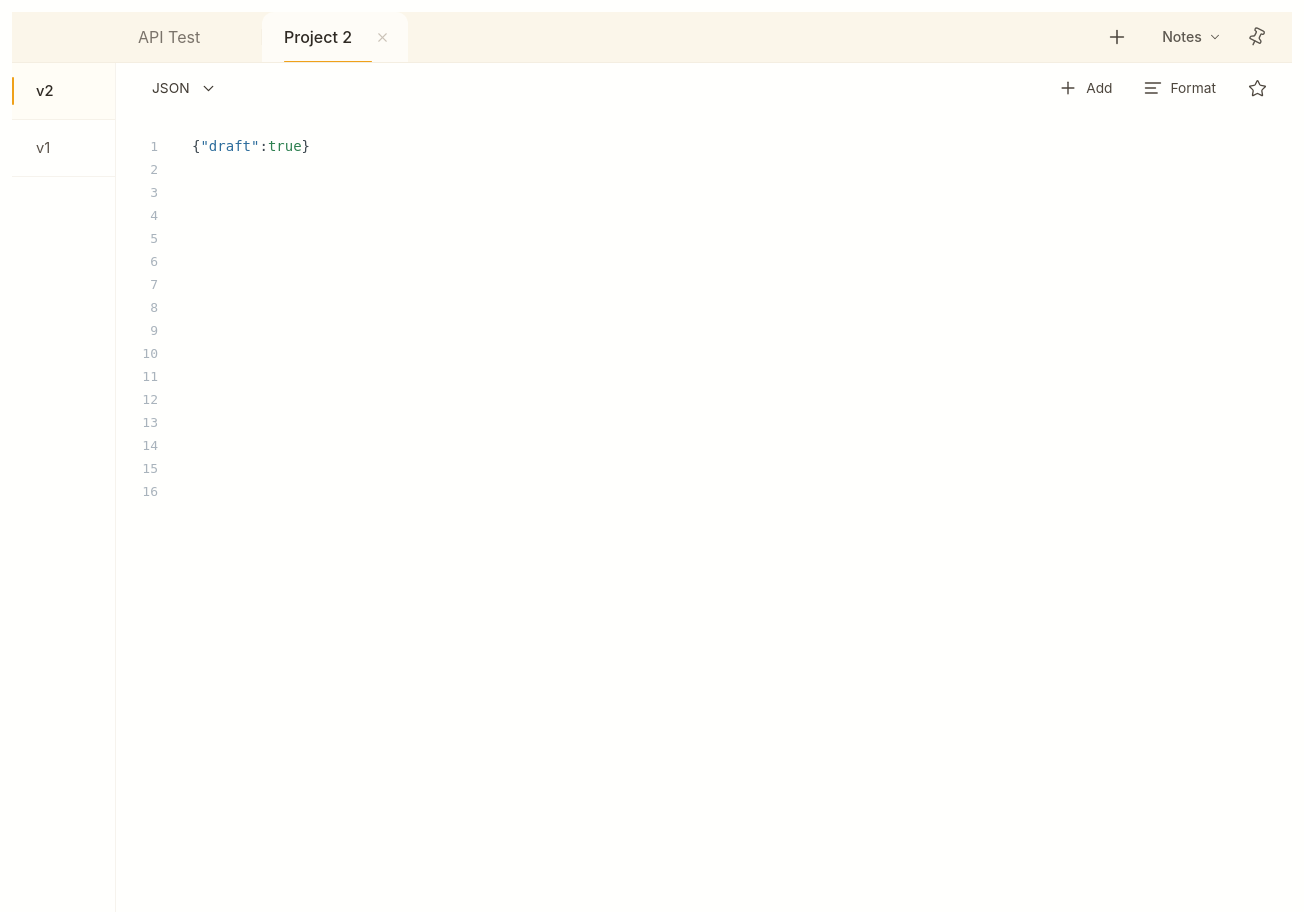
Test case: App project and version lifecycle › creates a new project with a first blank text version and activates inline naming
Click the button named "New project". click: (1117, 37)
box: 1100,18 -> 1134,56
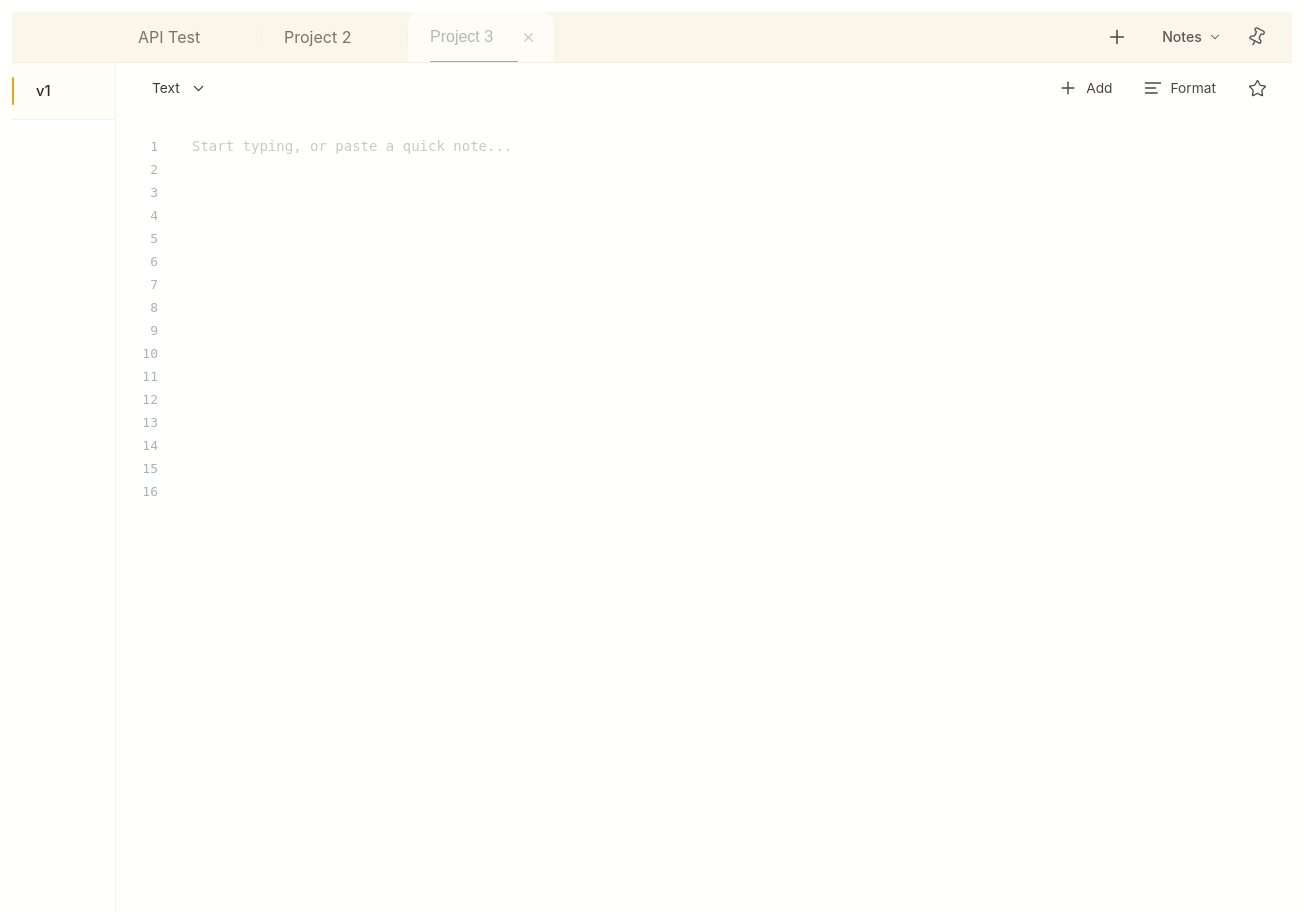
Now the field named "Rename Project 3" is empty
Now the element named "Project 3 editor" is shown
Now the button with aria-label "Content type: Text" is shown, box 142,69 -> 228,107
Type "Scratch Inbox" into the field named "Rename Project 3". click: (470, 37)
box: 422,20 -> 518,54
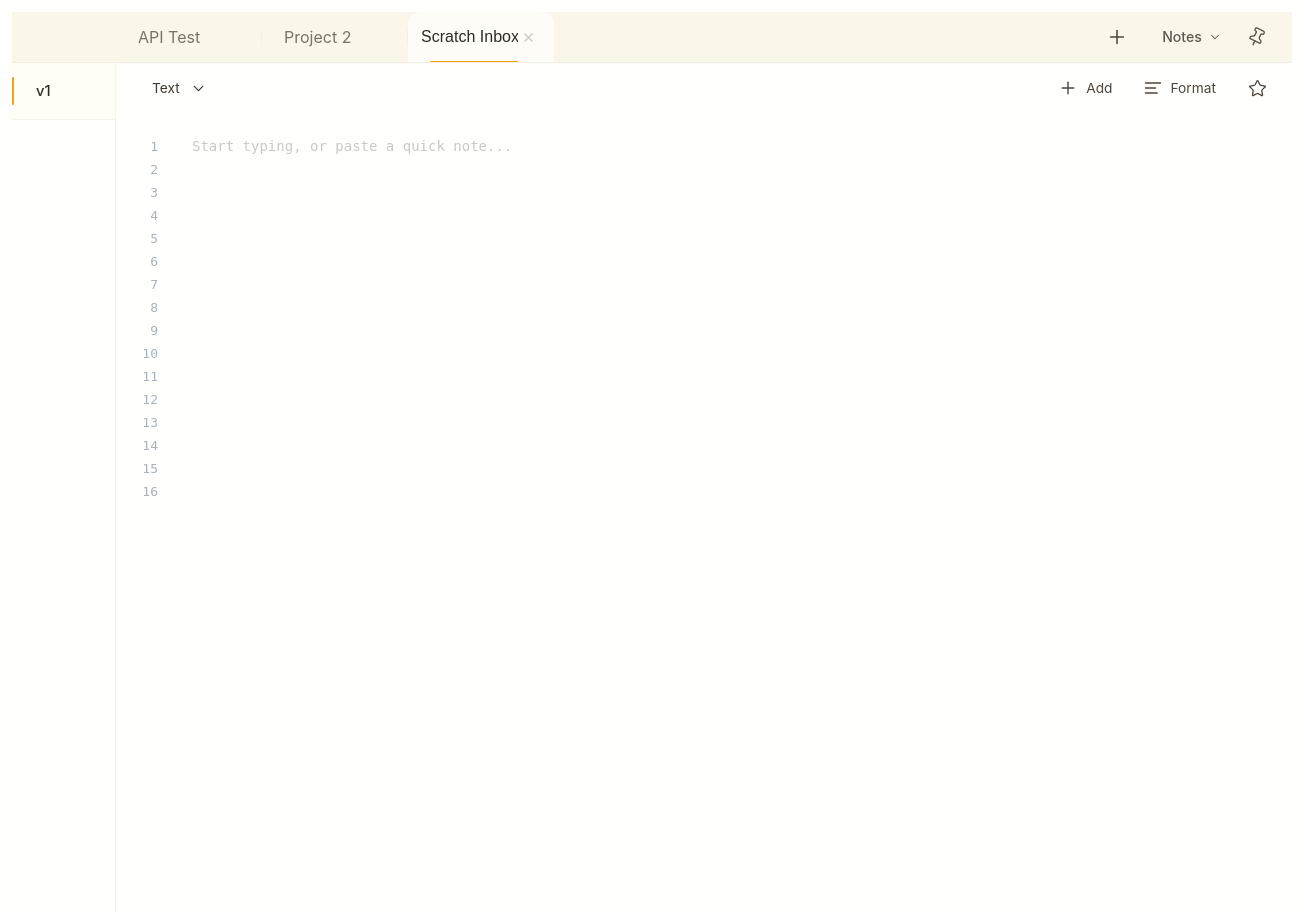
Press Enter in the field named "Rename Project 3", box 422,20 -> 518,54
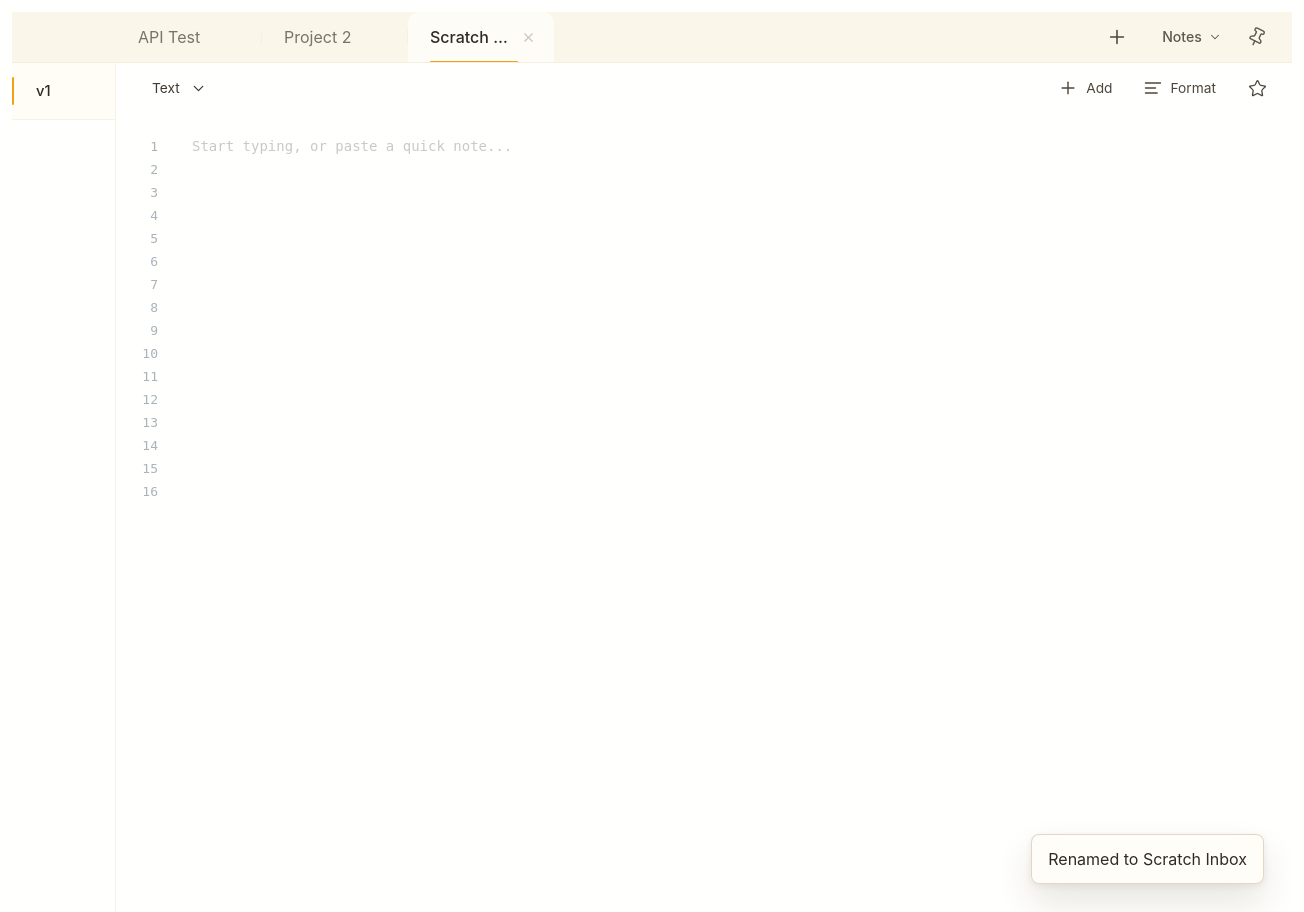
Now the button "Scratch Inbox" is shown, box 408,12 -> 516,62
Now the message reads "Renamed to Scratch Inbox", box 1048,849 -> 1247,869
